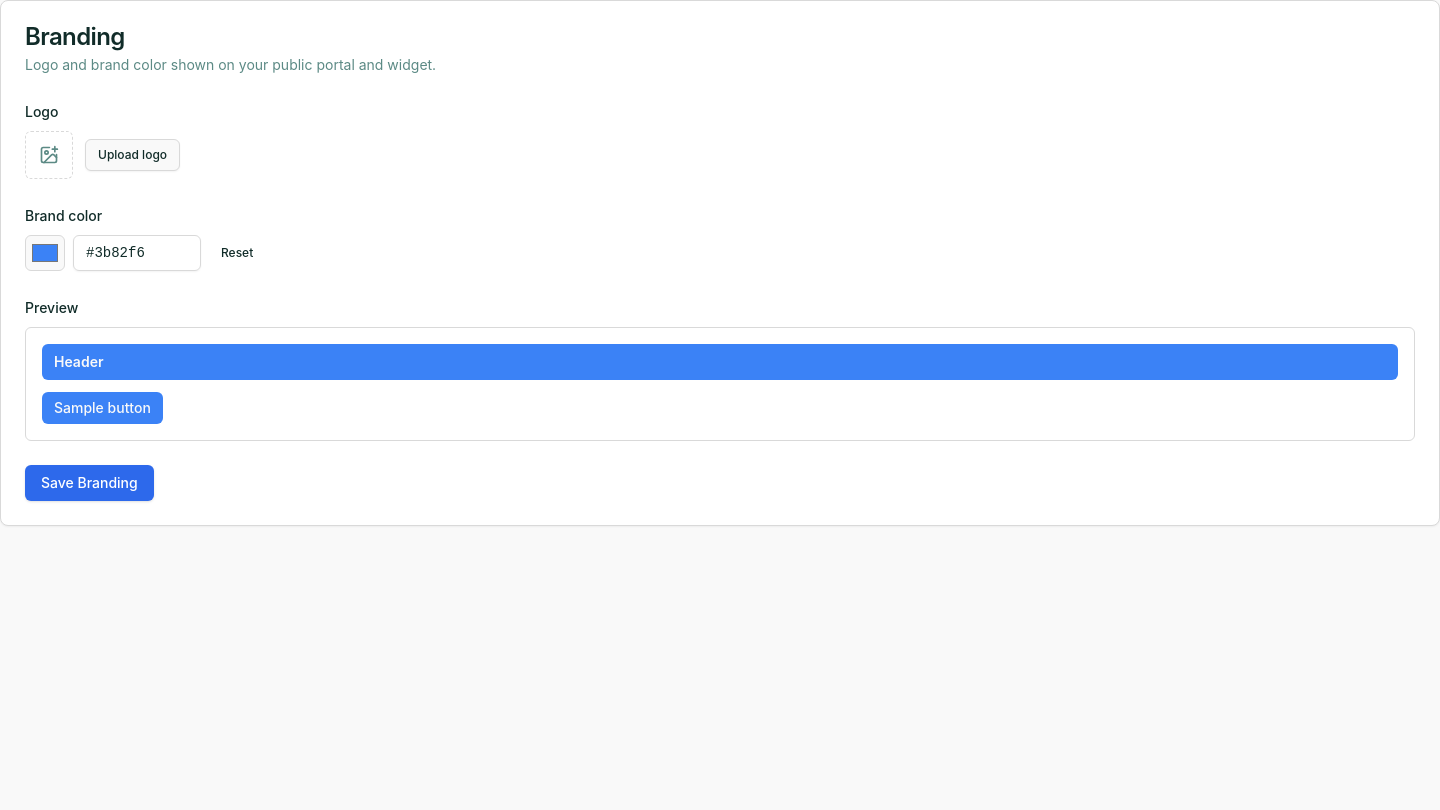
it: hex validation › invalid hex disables Save and shows the error
The image size is (1440, 810).
Type "red" into the field labelled "Brand color" at x=137, y=253, box x1=73 y1=235 x2=201 y2=271
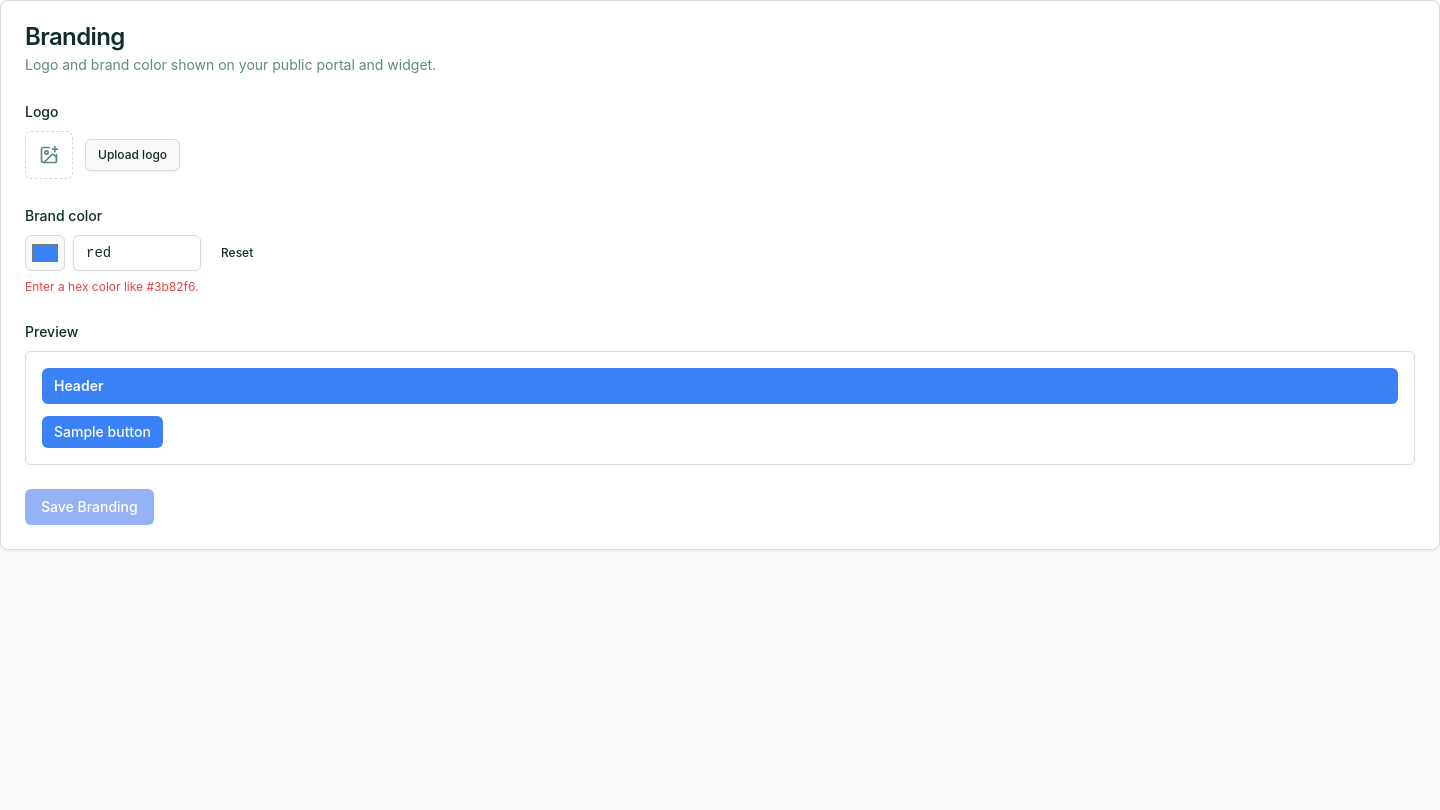
Expected: the text "Enter a hex color like #3b82f6." is shown, x1=25 y1=279 x2=198 y2=294
Expected: the button "Save Branding" is disabled, x1=25 y1=489 x2=154 y2=525
